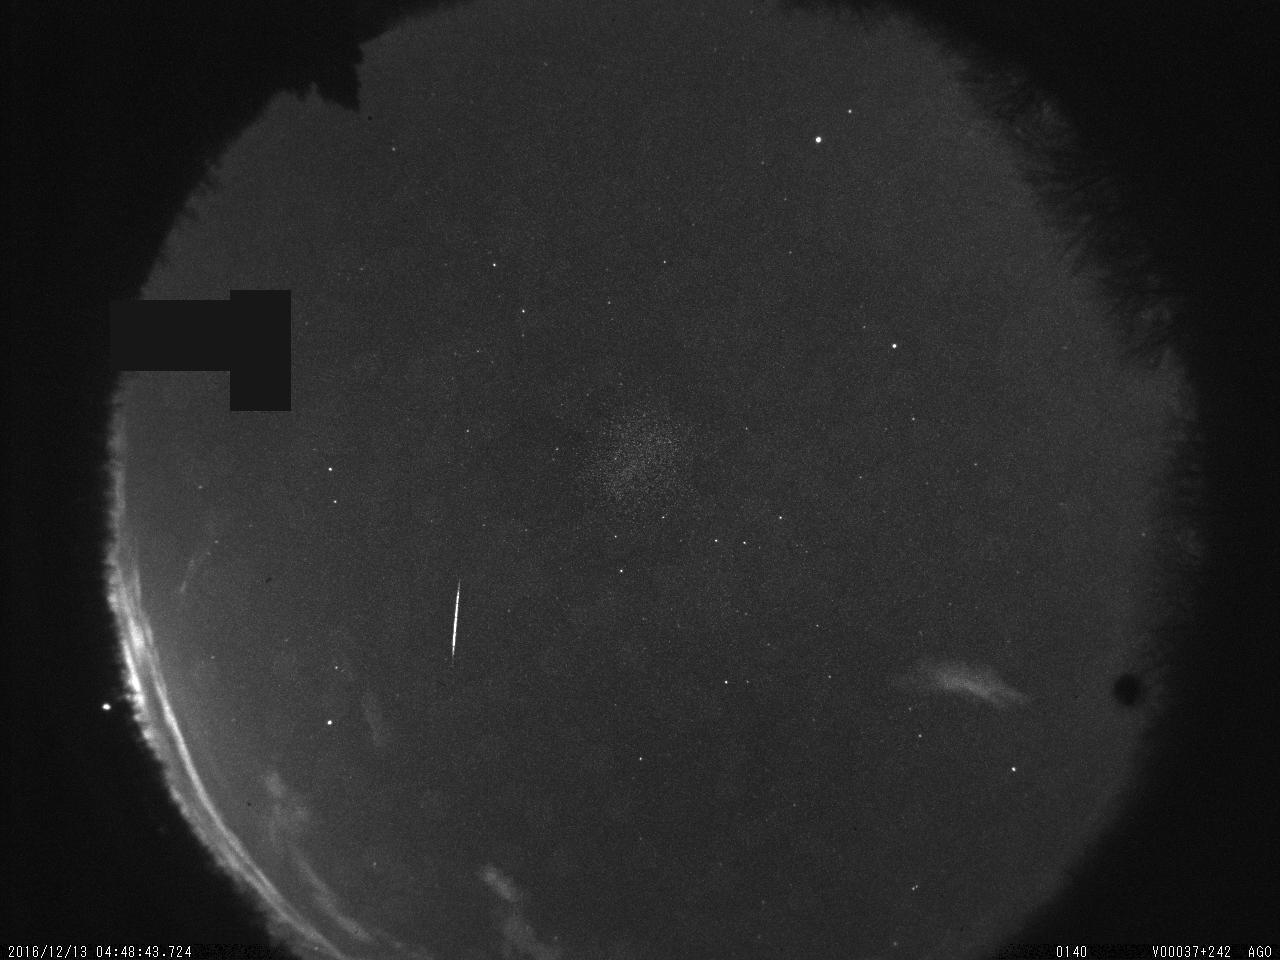meteor: (445, 570, 467, 663)
